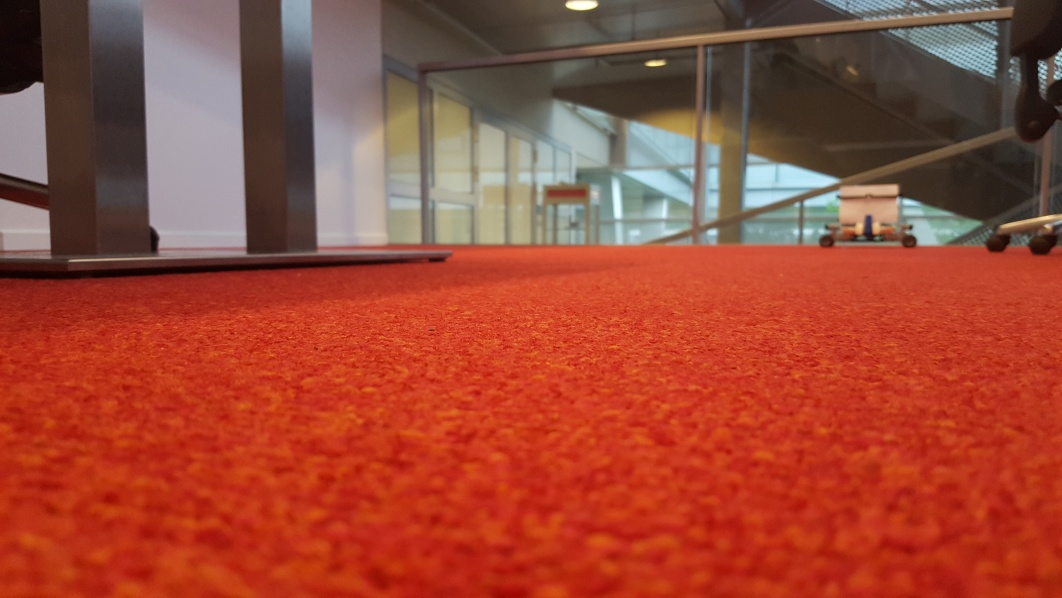car: (818, 180, 918, 250)
